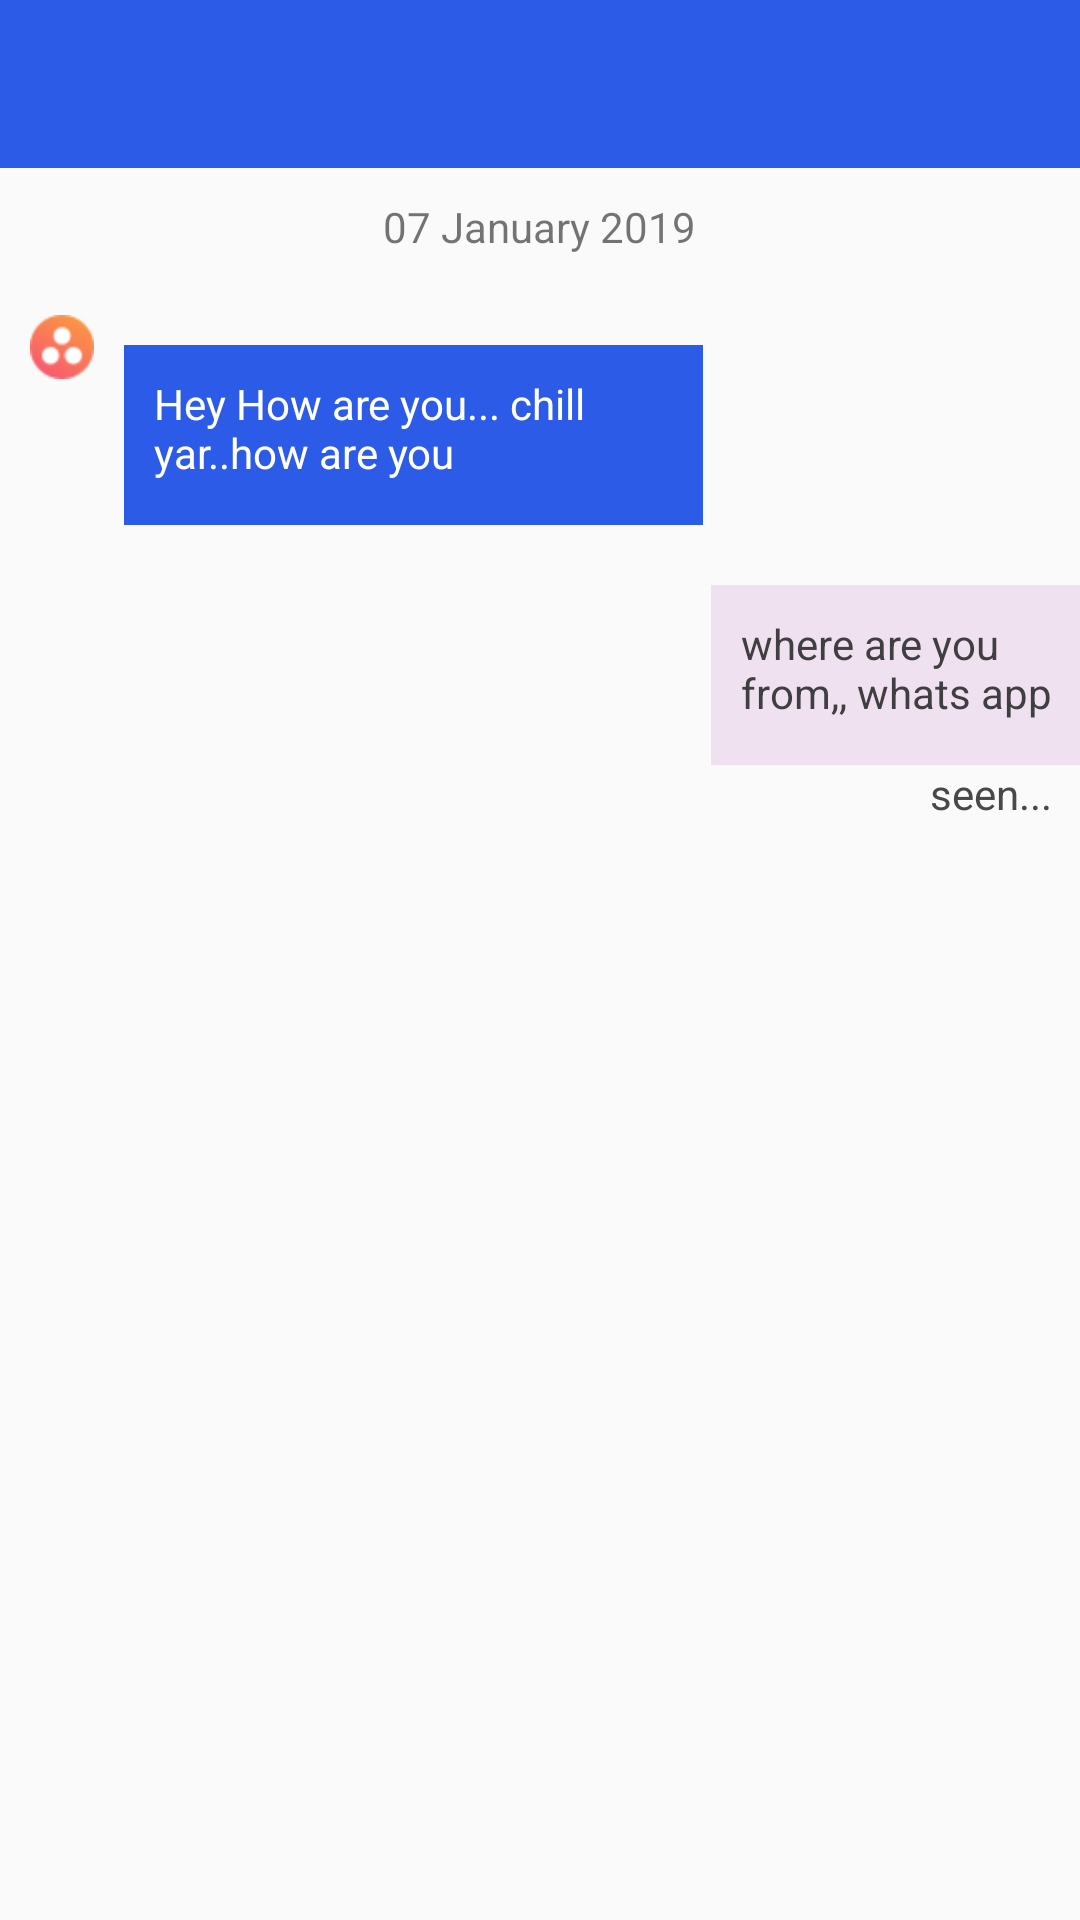

Icons on this 1080px×1920px Android screen, each with the point to tap as (x,y):
iconnn: (62,347)
